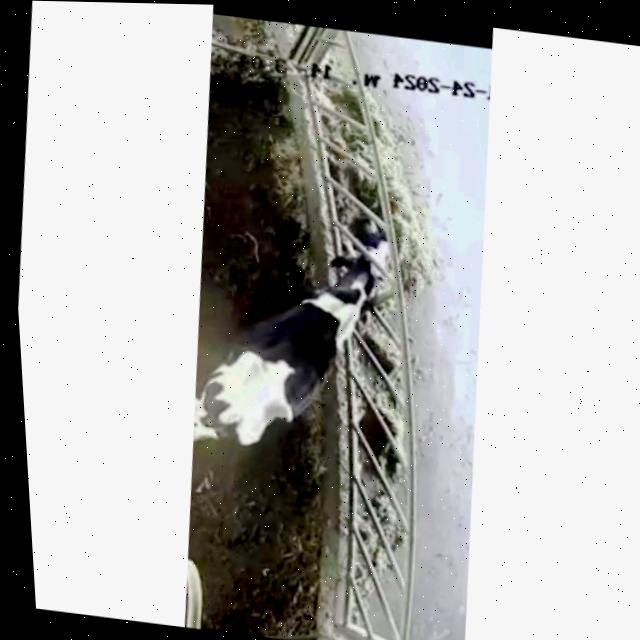eat: (289, 196, 442, 335)
